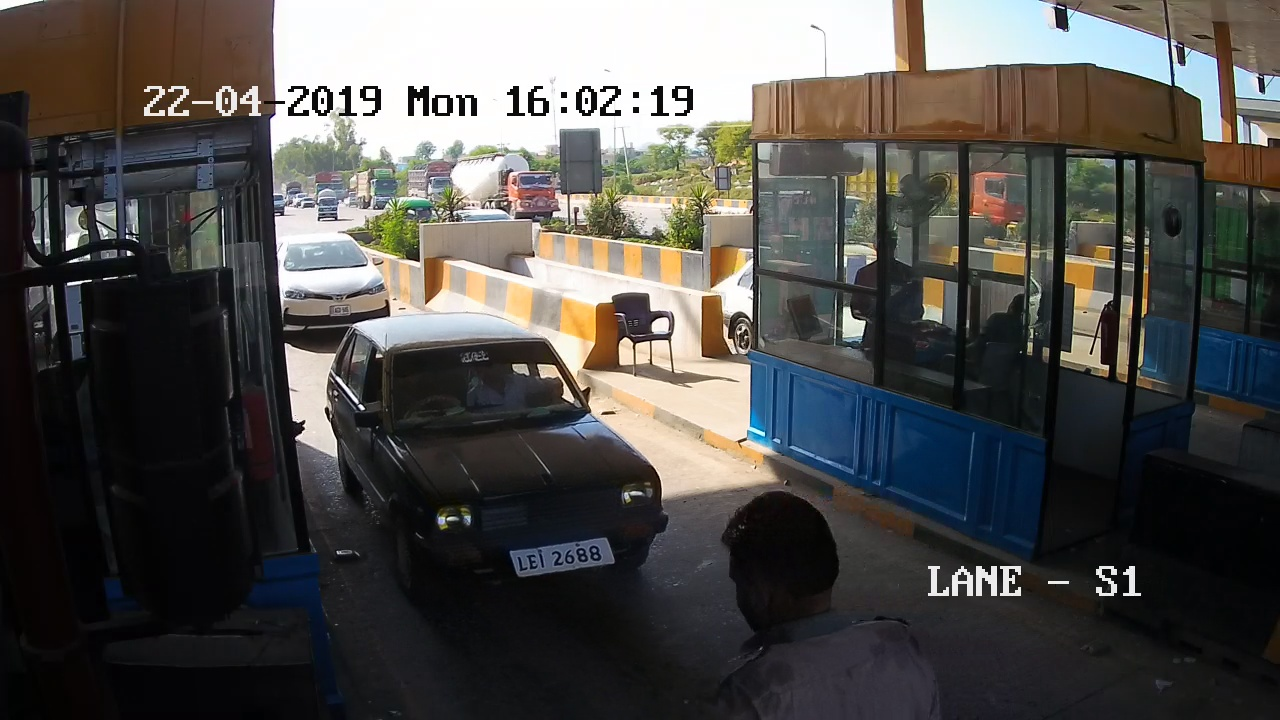car: (338, 339, 677, 607), (275, 239, 401, 317)
